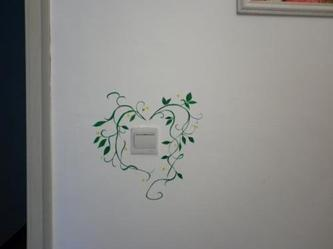switch: (134, 131, 156, 150)
